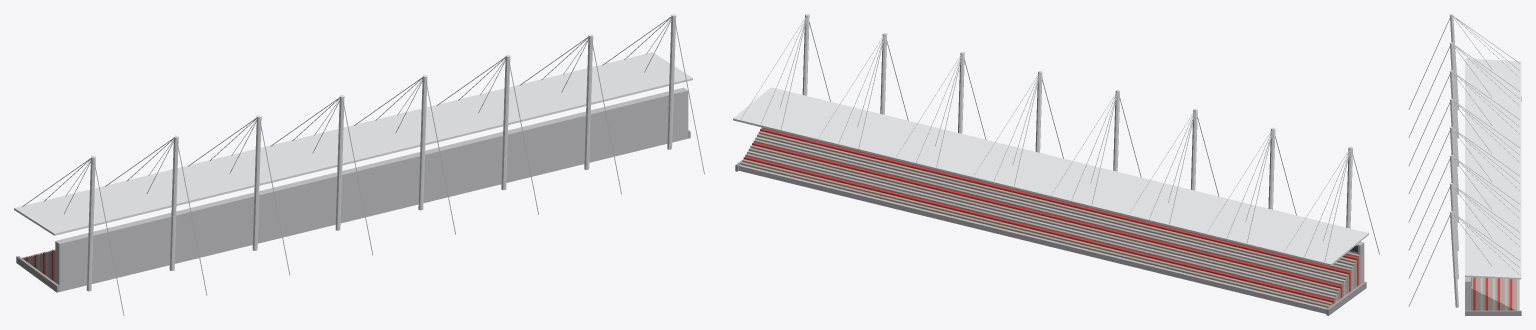
The model's file is istanbul_grandstand.glb.
3 views of the same model, side by side, from view 1: azimuth 30°, elevation 25°; view 2: azimuth 150°, elevation 25°; view 3: azimuth 270°, elevation 25° (orthographic). The views are drawn at different scales.
Visible parts, largest first — view 1: stand, roof, masts; view 2: stand, roof, masts; view 3: roof, masts, stand.
Part boxes in pixels (x1,y1,x2,y2): stand: (16,87,690,292); roof: (14,52,692,235); masts: (22,14,704,315); stand: (735,127,1366,315); roof: (733,87,1368,266); masts: (740,14,1379,261); roof: (1465,58,1521,279); masts: (1408,14,1520,307); stand: (1465,96,1521,315).
Size of the model in its own units: 264 by 54.09 by 58.15.
